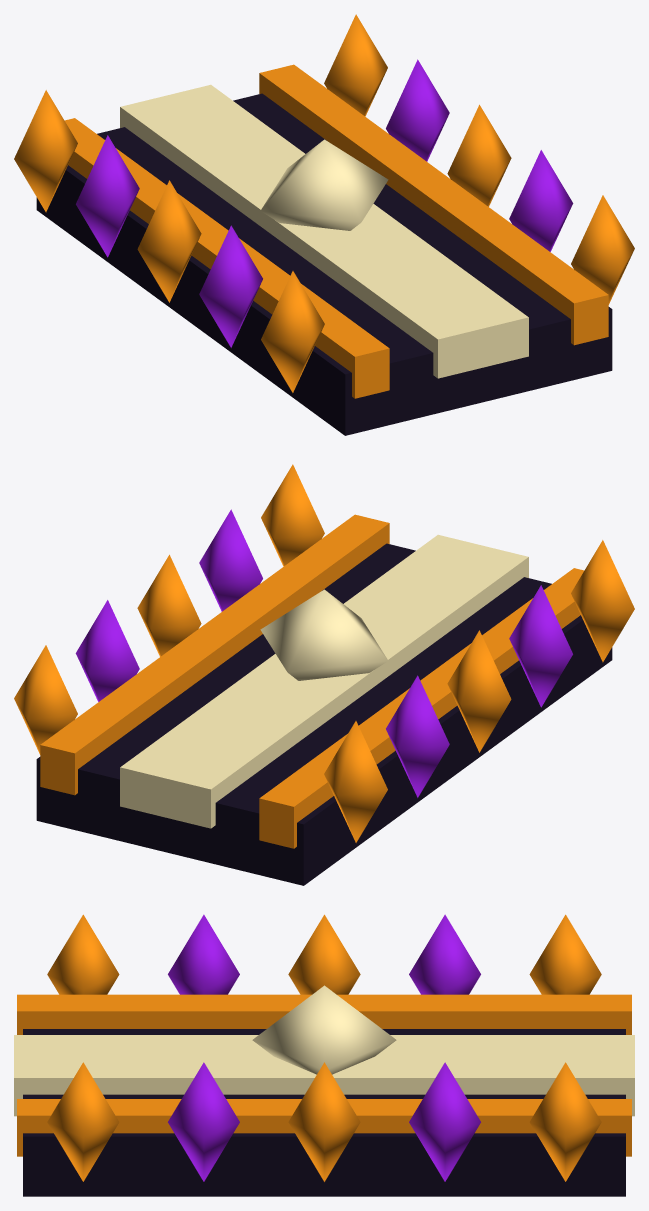
The model's file is false_king_royal_beam.obj.
3 renders of one model, top to bottom at view 1: azimuth 30°, elevation 25°; view 2: azimuth 150°, elevation 25°; view 3: azimuth 270°, elevation 25°, orthographic. The views are drawn at different scales.
Parts seen in each view (by area): view 1: false_king_royal_beam; view 2: false_king_royal_beam; view 3: false_king_royal_beam.
Part boxes in pixels (box(x1,y1,x2,y2)): false_king_royal_beam: box(14, 14, 634, 435); false_king_royal_beam: box(14, 464, 634, 885); false_king_royal_beam: box(14, 914, 634, 1196).
Size of the model in its own units: 1.4 by 0.54 by 2.06.
